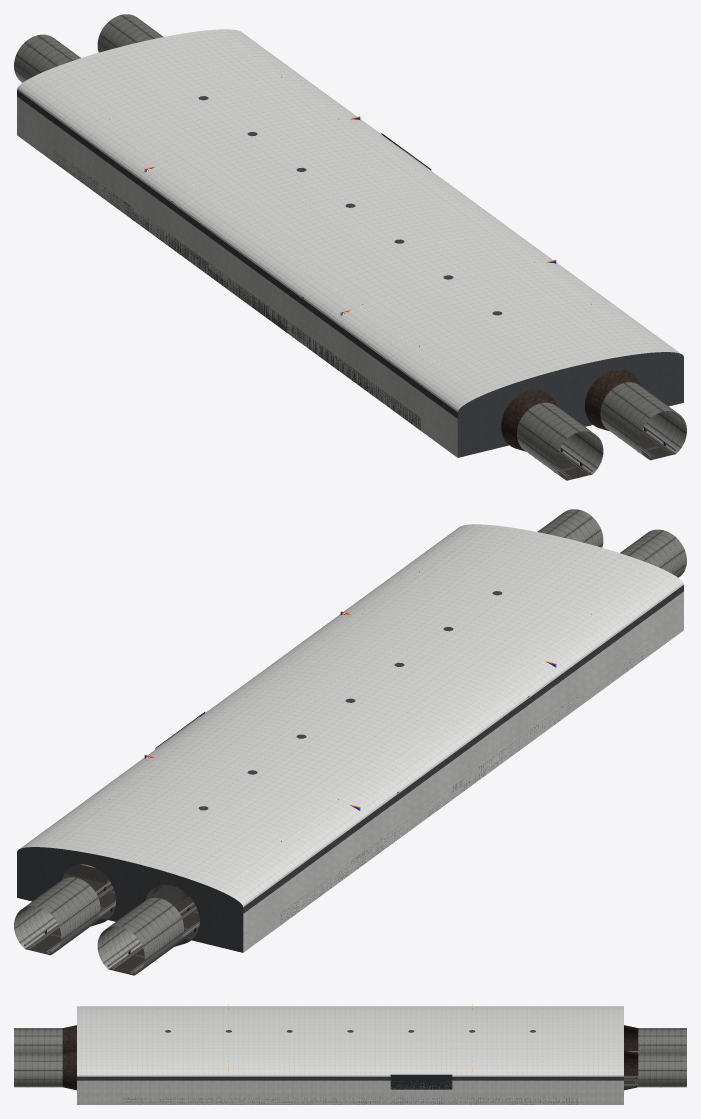
The model's file is station_partick.glb.
3 renders of one model, top to bottom at view 1: azimuth 30°, elevation 25°; view 2: azimuth 150°, elevation 25°; view 3: azimuth 270°, elevation 25°, orthographic. The views are drawn at different scales.
Parts seen in each view (by area): view 1: hall_shell, end_walls; view 2: hall_shell, end_walls; view 3: hall_shell, end_walls, hall_art.
Part boxes in pixels (bbox=[...]): hall_shell: bbox=[17, 29, 680, 479]; end_walls: bbox=[14, 14, 686, 480]; hall_shell: bbox=[20, 524, 683, 974]; end_walls: bbox=[14, 509, 686, 975]; hall_shell: bbox=[27, 1006, 661, 1104]; end_walls: bbox=[14, 1025, 686, 1090]; hall_art: bbox=[390, 1074, 452, 1089].
Size of the model in its own units: 16 by 4.85 by 66.4.
Materials: 38 (23 with a texture image).
